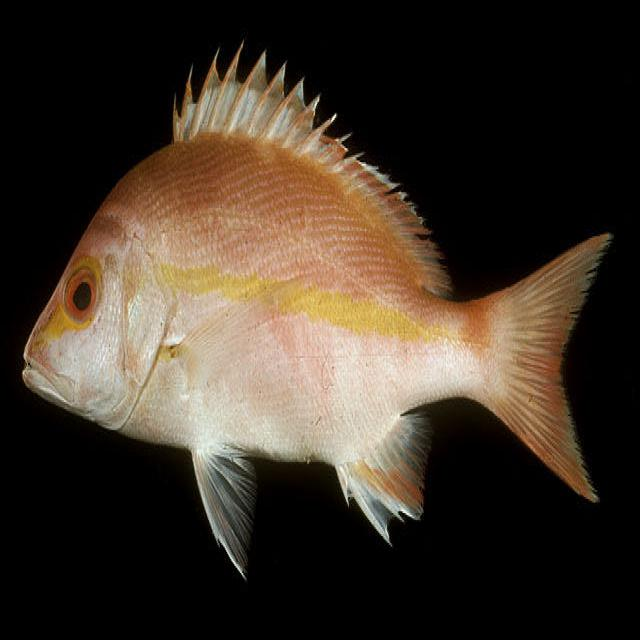ikan: (20, 37, 614, 582)
